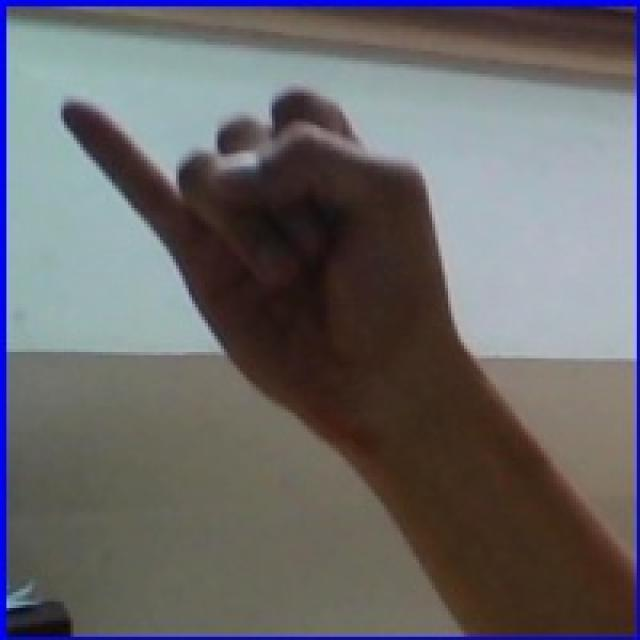J: (24, 48, 581, 474)
